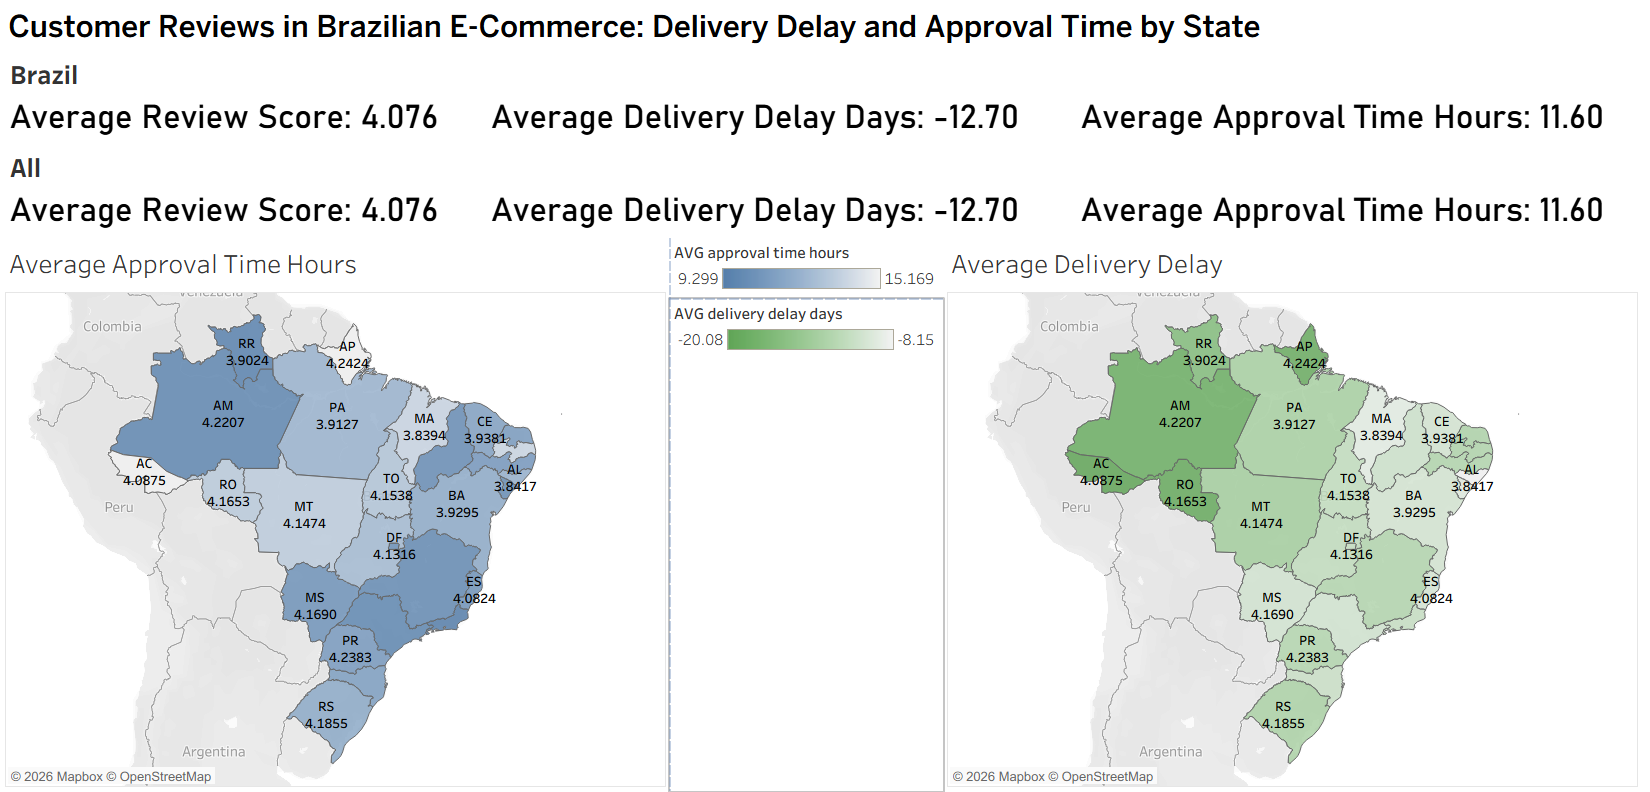

What the dashboard file says about the page in this screenshot:
{"tool":"tableau","page":{"name":"Dashboard 1","canvas":[1000,1000],"units":"permille","ordinal":0},"visuals":[{"type":"title","box":[4.8,10,990.3,52.4]},{"type":"worksheet","title":"Sheet 3","mark":"Automatic","box":[4.8,62.4,990.3,129.7]},{"type":"worksheet","title":"Sheet 3 (2)","mark":"Automatic","box":[4.8,192.1,990.3,141.1]},{"type":"worksheet","title":"Sheet 2","mark":"Multipolygon","box":[4.8,333.2,404,656.8]},{"type":"legend","title":"Sheet 2","param":"[federated.1t90q4k1f23cem11fw12204kipsn].[sum:AVG_approval_time_hours:qk]","box":[408.8,333.2,164.5,72.3]},{"type":"worksheet","title":"Sheet 1","mark":"Multipolygon","box":[573.3,333.2,421.9,656.8]},{"type":"legend","title":"Sheet 1","param":"[federated.1t90q4k1f23cem11fw12204kipsn].[sum:AVG_delivery_delay_days:qk]","box":[408.8,405.4,164.5,584.6]}]}

Visuals, with their boxes on the dashboard's canvas, which has no fixed pixel size, in thousandths of its width and height (x1, y1, x2, y2). These are canvas units, not pixel positions in the 1650x792 screenshot, which may show the page scaled, cropped or inside an application window:
title: locate(5, 10, 995, 62)
"Sheet 3" worksheet: locate(5, 62, 995, 192)
"Sheet 3 (2)" worksheet: locate(5, 192, 995, 333)
"Sheet 2" worksheet (Multipolygon marks): locate(5, 333, 409, 990)
"Sheet 2" legend: locate(409, 333, 573, 406)
"Sheet 1" worksheet (Multipolygon marks): locate(573, 333, 995, 990)
"Sheet 1" legend: locate(409, 405, 573, 990)
